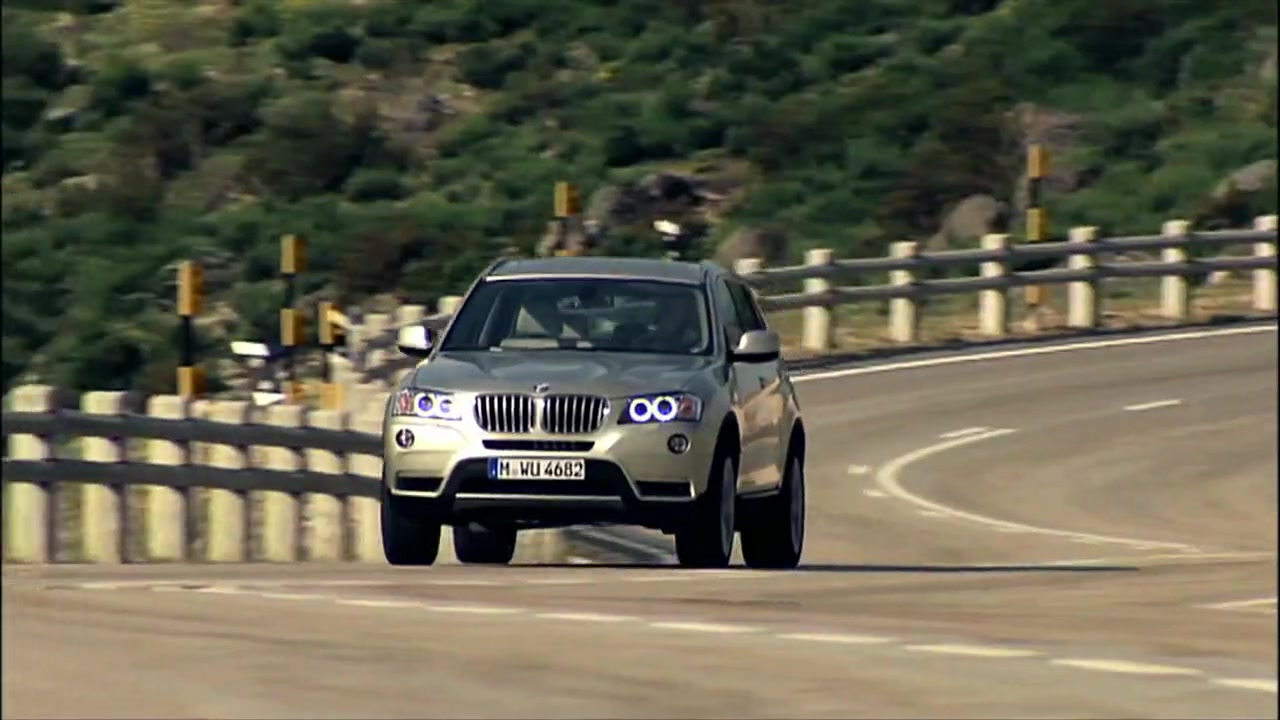car: (380, 253, 812, 578)
